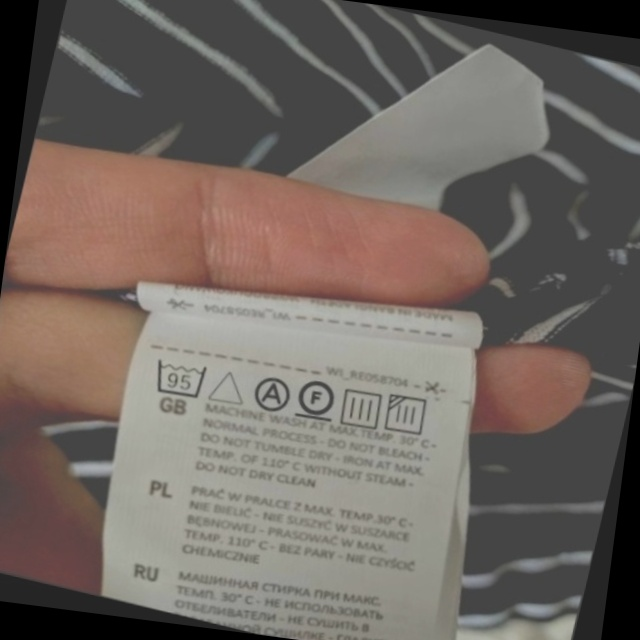95C: (147, 350, 215, 406)
bleach: (204, 360, 251, 412)
drip_dry: (334, 381, 389, 435)
drip_dry_in_shade: (380, 387, 437, 444)
dry_clean: (247, 370, 296, 418)
dry_clean_petrol_only: (291, 370, 343, 427)
